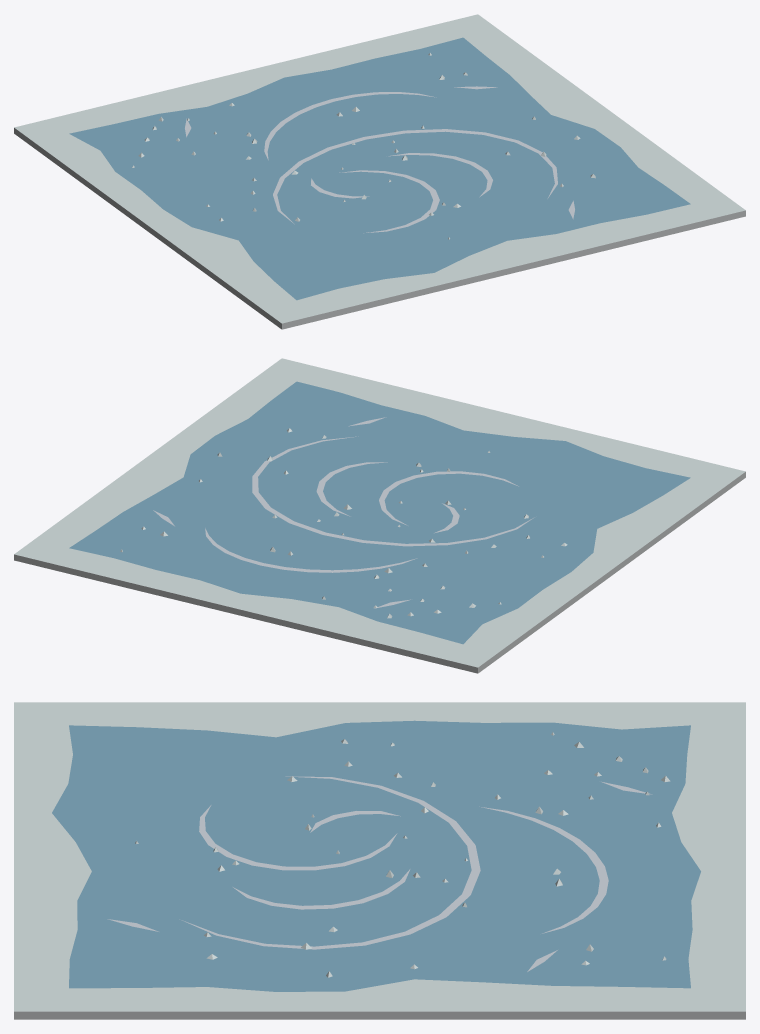
Rendered from ice-rink-tile-aceb6a.glb.
3 renders of one model, top to bottom at view 1: azimuth 30°, elevation 25°; view 2: azimuth 150°, elevation 25°; view 3: azimuth 270°, elevation 25°, orthographic. The views are drawn at different scales.
Visible parts, largest first — view 1: ice-rink-tile-body; view 2: ice-rink-tile-body; view 3: ice-rink-tile-body.
Boxes of the visible parts, left/top/right/bottom form: ice-rink-tile-body: left=14, top=14, right=745, bottom=329; ice-rink-tile-body: left=14, top=358, right=745, bottom=673; ice-rink-tile-body: left=14, top=702, right=745, bottom=1019.
Bounding box in the file's own units: 4 × 0.087 × 4.
